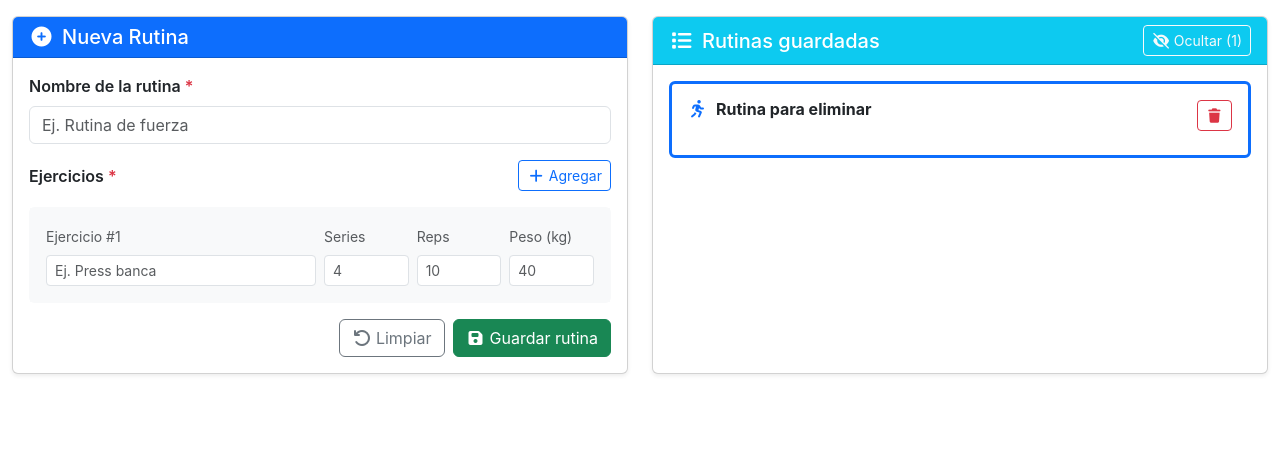
Scenario: elimina una rutina al hacer clic en boton eliminar
The width and height of the screenshot is (1280, 467).
Expected: the heading "Rutina para eliminar" is shown, [688,100,872,119]
What coordinates should you click on to do the following:
click the 2nd button
I would click on:
 (1214, 116)
Its box is [1196,100,1232,131].
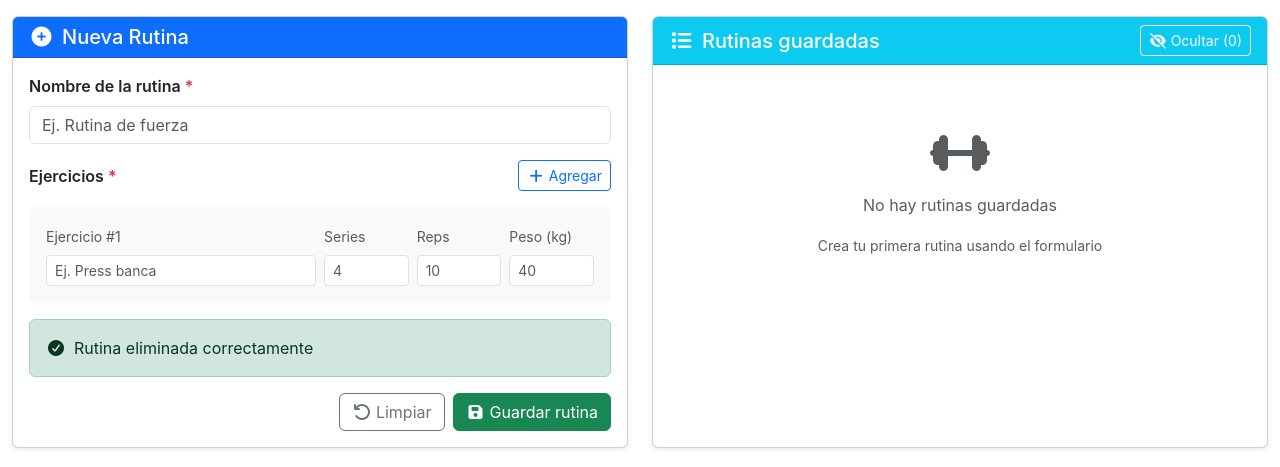
Expected: the heading "Rutina para eliminar" is gone
